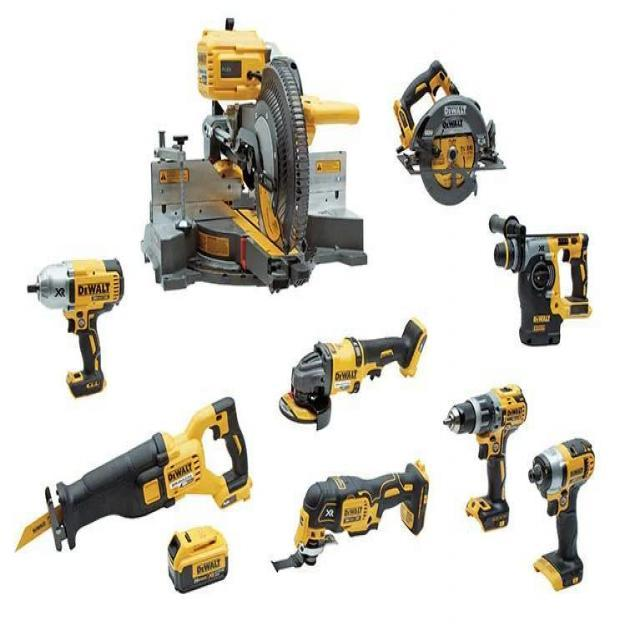drill: (140, 15, 370, 296), (13, 396, 255, 554), (272, 460, 432, 573), (278, 316, 428, 433), (394, 61, 506, 208), (488, 212, 592, 346), (28, 258, 124, 400), (443, 384, 528, 532), (529, 437, 596, 593)
